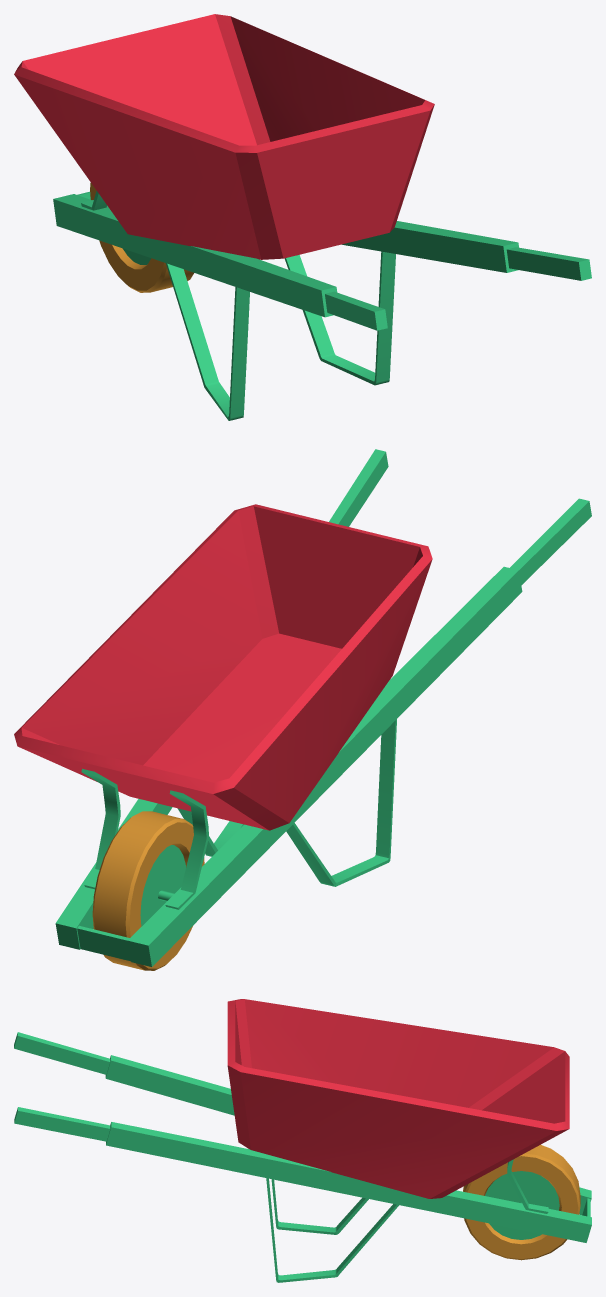
File: wheelbarrow.FBX
3 renders of one model, top to bottom at view 1: azimuth 30°, elevation 25°; view 2: azimuth 150°, elevation 25°; view 3: azimuth 270°, elevation 25°, orthographic. The views are drawn at different scales.
Visible parts, largest first — view 1: wheelbarrow; view 2: wheelbarrow; view 3: wheelbarrow.
Part boxes in pixels (bbox=[...]): wheelbarrow: bbox=[14, 14, 591, 420]; wheelbarrow: bbox=[14, 449, 591, 970]; wheelbarrow: bbox=[14, 999, 591, 1282].
Size of the model in its own units: 1.29 by 1.66 by 3.89.
